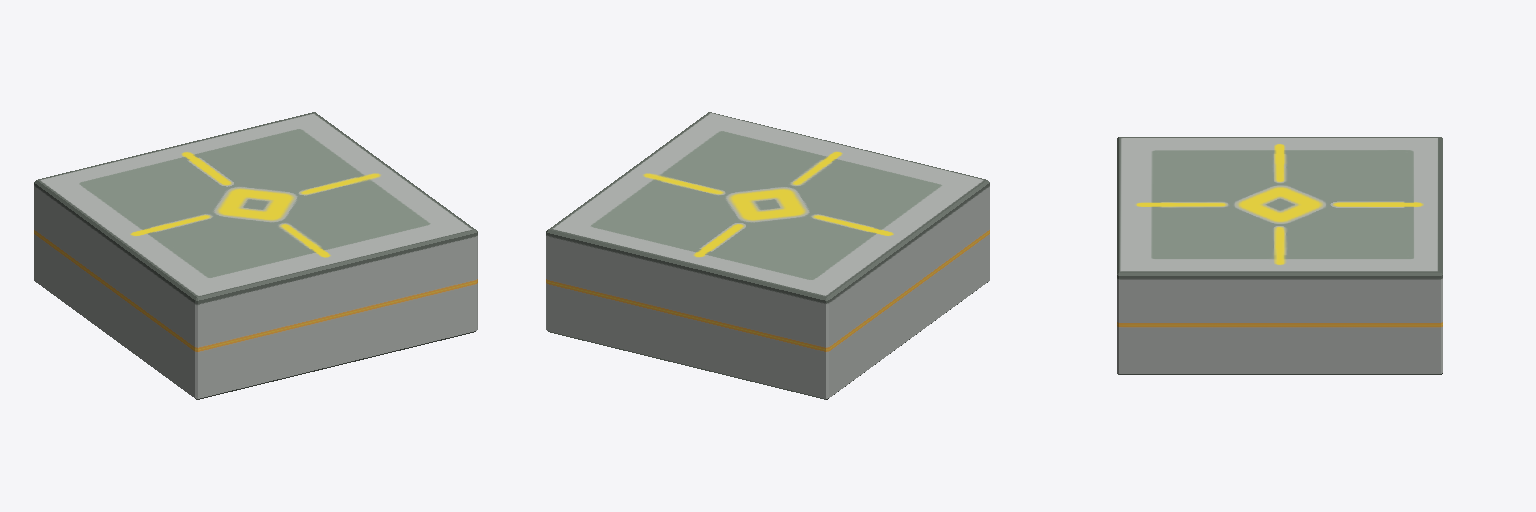
The picture shows the model from 3 angles: view 1: azimuth 30°, elevation 25°; view 2: azimuth 150°, elevation 25°; view 3: azimuth 270°, elevation 25°; orthographic projection.
Visible parts, largest first — view 1: Cube; view 2: Cube; view 3: Cube.
Part boxes in pixels (x1,y1,x2,y2): Cube: (34,112,477,399); Cube: (546,112,989,399); Cube: (1117,137,1442,374).
Size of the model in its own units: 2 by 0.693 by 2.
Materials: 1 (1 with a texture image).